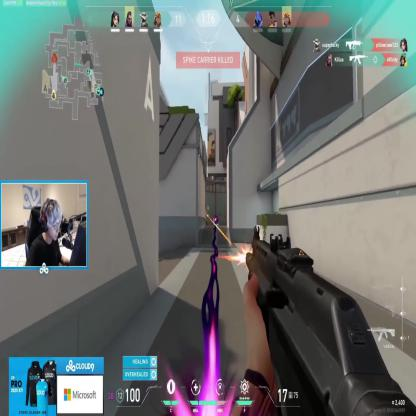enemy: (203, 209, 208, 225)
enemy_head: (204, 210, 206, 213)
